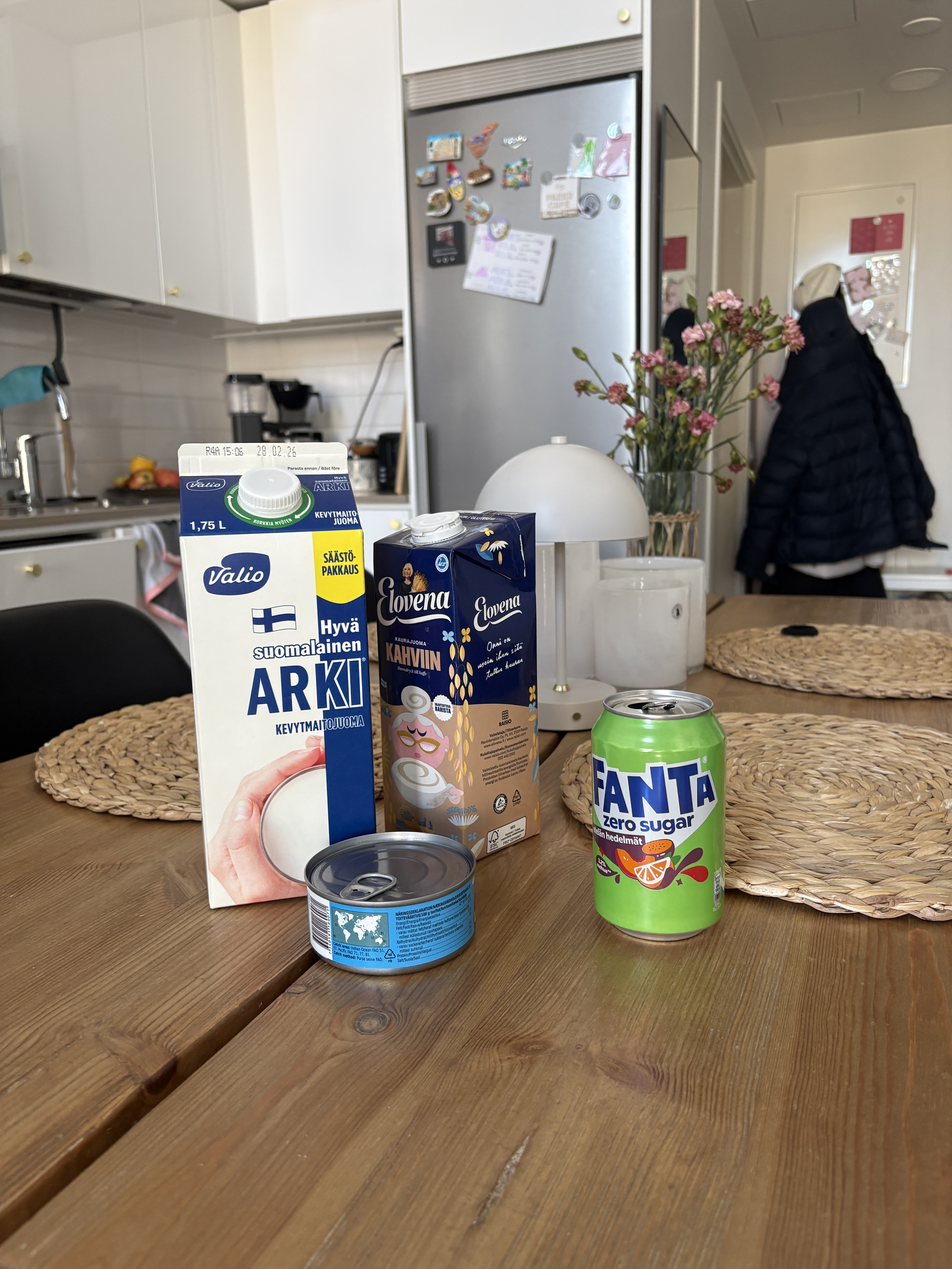Dryckeskartong: (144, 428, 371, 822)
Konservburk: (377, 502, 572, 825), (292, 833, 502, 1004)
Pantburk: (575, 662, 770, 965)
